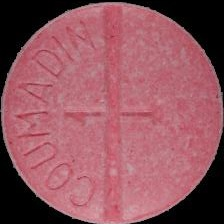0056-0169: (0, 0, 224, 224)
